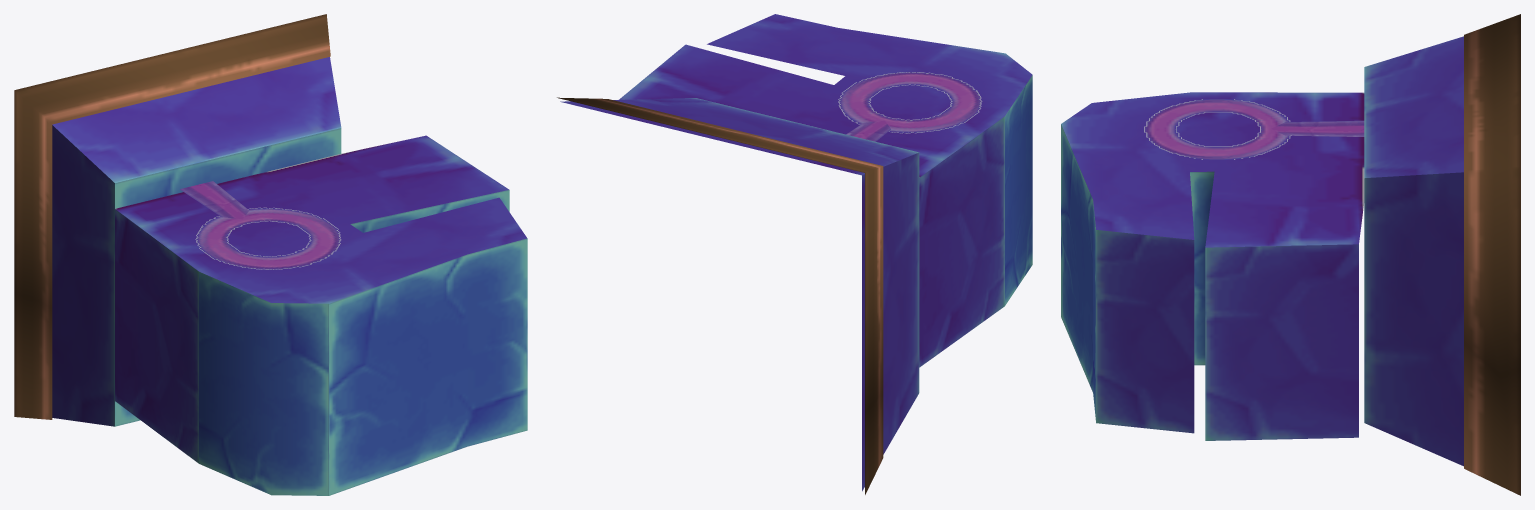
File: gravestone_07.glb
The picture shows the model from 3 angles, left to right: view 1: azimuth 30°, elevation 25°; view 2: azimuth 150°, elevation 25°; view 3: azimuth 270°, elevation 25°; orthographic projection.
Parts seen in each view (by area): view 1: graveyard.gravestone_07-Mesh[0]; view 2: graveyard.gravestone_07-Mesh[0]; view 3: graveyard.gravestone_07-Mesh[0].
Boxes of the visible parts, x1=… form: graveyard.gravestone_07-Mesh[0]: x1=14, y1=14, x2=527, y2=495; graveyard.gravestone_07-Mesh[0]: x1=557, y1=14, x2=1032, y2=494; graveyard.gravestone_07-Mesh[0]: x1=1061, y1=14, x2=1520, y2=495.
Bounding box in the file's own units: 1.1 × 1.02 × 1.29.
1 material, 1 textured.
